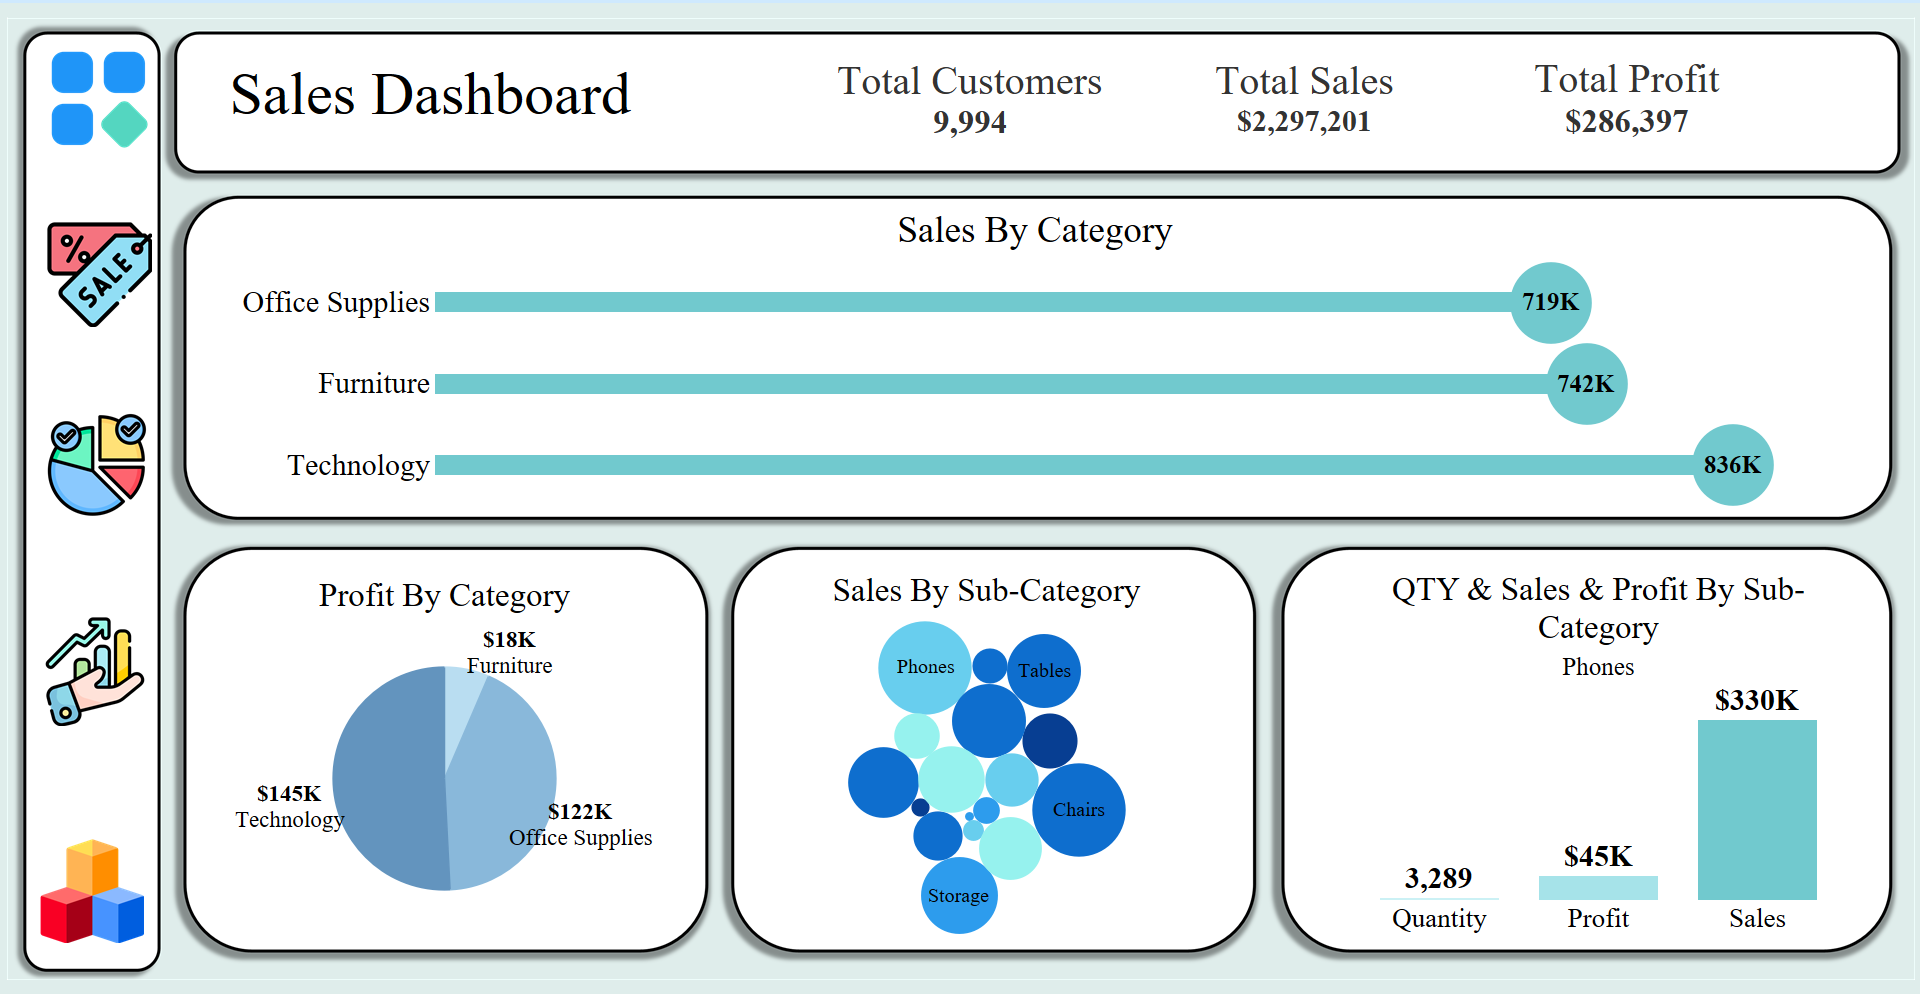

Layout of this report page (visuals, bound fields, positions):
{"tool":"tableau","page":{"name":"Dashboard 1(Sales By Category)","canvas":[1000,1000],"units":"permille","ordinal":0},"visuals":[{"type":"image","param":"Image/Publication3.png","box":[3.2,7,994.2,984.9]},{"type":"text","box":[101.9,31.4,821.9,122]},{"type":"image","param":"Image/application.png","box":[23.8,40.6,54,110.3]},{"type":"worksheet","title":"Q----8","mark":"Automatic","box":[421.1,45.3,169.5,104.5]},{"type":"worksheet","title":"Q8","mark":"Automatic","box":[595.9,45.3,167.4,102.2]},{"type":"worksheet","title":"Q-8","mark":"Automatic","box":[767.5,45.3,159.4,102.2]},{"type":"worksheet","title":"Q4 (2)","mark":"Automatic","rows":["Category"],"cols":["Sales","Sales"],"box":[120.1,203.2,837.7,303.1]},{"type":"image","param":"Image/coupon.png","box":[24.4,220.7,55.1,105.7]},{"type":"image","param":"Image/market.png","box":[22.8,412.3,54.6,116.1]},{"type":"worksheet","title":"Q13 (2)","mark":"Automatic","cols":["Sub-Category"],"box":[708.2,567.9,248.4,369.3]},{"type":"worksheet","title":"Q3 (2)","mark":"Circle","box":[405.7,569.1,216.1,368.2]},{"type":"worksheet","title":"Q5 (2)","mark":"Pie","box":[122.4,573.8,218.2,361.2]},{"type":"image","param":"Image/sales.png","box":[20.7,615.6,56.7,117.3]},{"type":"image","param":"Image/cubes.png","box":[19.6,842,56.7,104.5]}]}

Visuals, with their boxes on the dashboard's canvas, which has no fixed pixel size, in thousandths of its width and height (x1, y1, x2, y2). These are canvas units, not pixel positions in the 1920x994 screenshot, which may show the page scaled, cropped or inside an application window:
image: {"x1": 3, "y1": 7, "x2": 997, "y2": 992}
text: {"x1": 102, "y1": 31, "x2": 924, "y2": 153}
image: {"x1": 24, "y1": 41, "x2": 78, "y2": 151}
"Q----8" worksheet: {"x1": 421, "y1": 45, "x2": 591, "y2": 150}
"Q8" worksheet: {"x1": 596, "y1": 45, "x2": 763, "y2": 148}
"Q-8" worksheet: {"x1": 768, "y1": 45, "x2": 927, "y2": 148}
"Q4 (2)" worksheet: {"x1": 120, "y1": 203, "x2": 958, "y2": 506}
image: {"x1": 24, "y1": 221, "x2": 80, "y2": 326}
image: {"x1": 23, "y1": 412, "x2": 77, "y2": 528}
"Q13 (2)" worksheet: {"x1": 708, "y1": 568, "x2": 957, "y2": 937}
"Q3 (2)" worksheet (Circle marks): {"x1": 406, "y1": 569, "x2": 622, "y2": 937}
"Q5 (2)" worksheet (Pie marks): {"x1": 122, "y1": 574, "x2": 341, "y2": 935}
image: {"x1": 21, "y1": 616, "x2": 77, "y2": 733}
image: {"x1": 20, "y1": 842, "x2": 76, "y2": 946}
